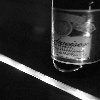beer: (51, 7, 100, 75)
